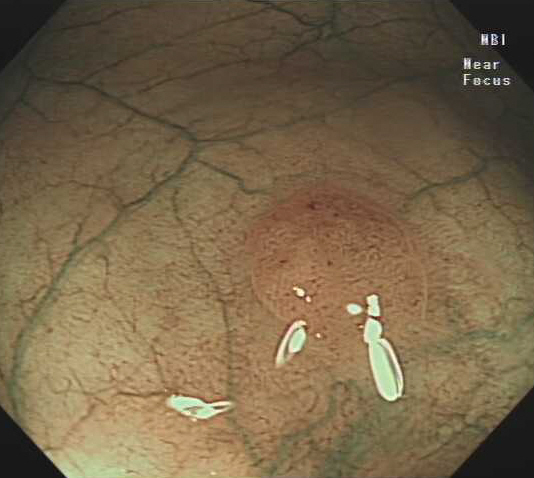adenoma: (248, 190, 429, 341)
